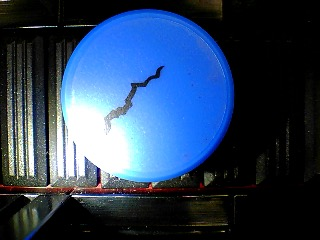CRACK: (61, 9, 235, 183)
